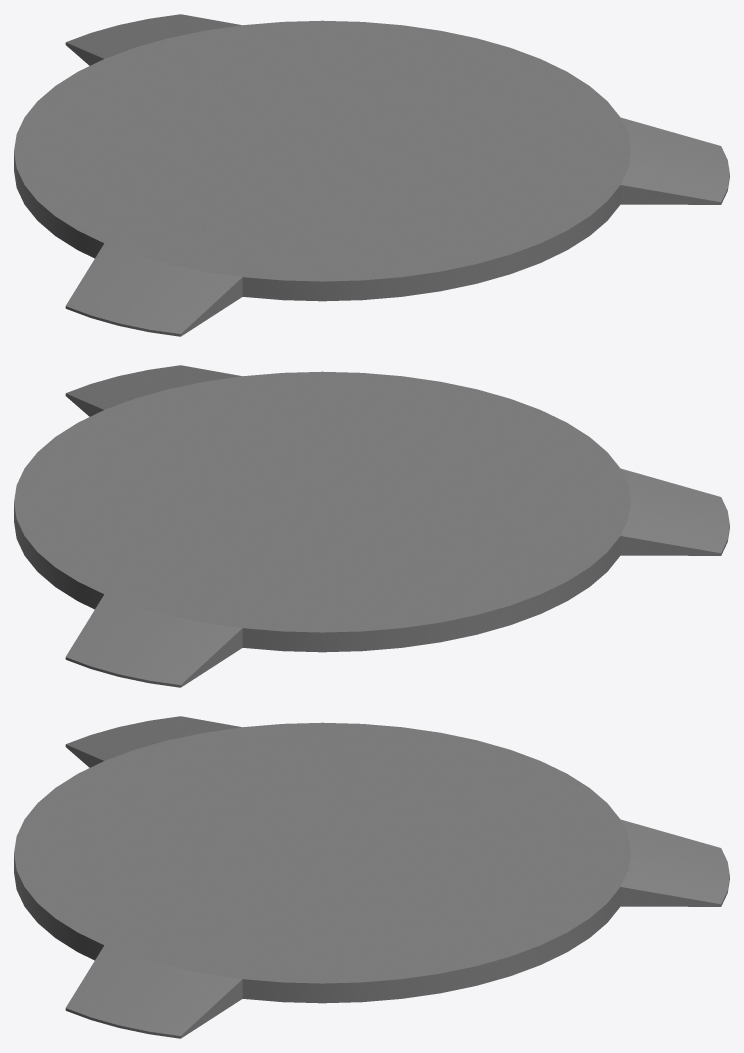
File: platform1_1.obj
3 renders of one model, top to bottom at view 1: azimuth 30°, elevation 25°; view 2: azimuth 150°, elevation 25°; view 3: azimuth 270°, elevation 25°, orthographic.
Parts seen in each view (by area): view 1: platform1_1; view 2: platform1_1; view 3: platform1_1.
Boxes of the visible parts, x1,y1,x2,y2 form: platform1_1: (14, 14, 729, 336); platform1_1: (14, 365, 729, 687); platform1_1: (14, 716, 729, 1038).
Size of the model in its own units: 89.17 by 3.33 by 84.32.
Materials: 1 (1 with a texture image).
